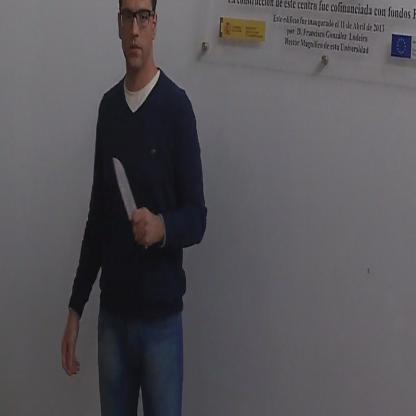knife: (109, 150, 150, 254)
